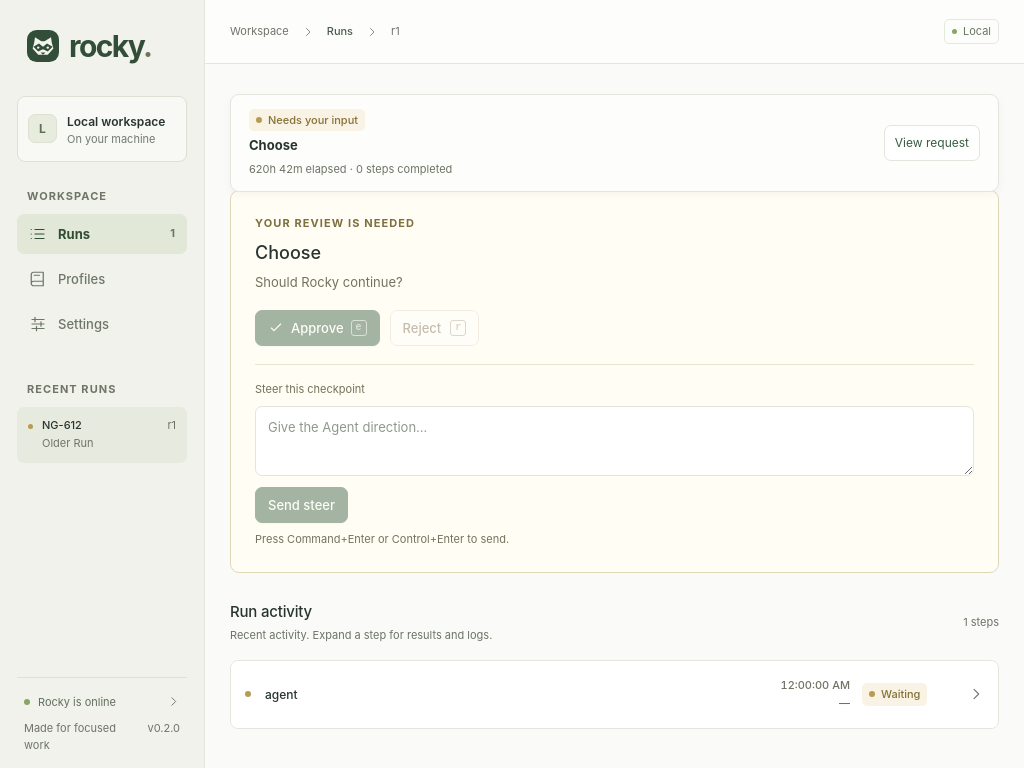
Test case: Inbox behavior › renders a recorded OpenCode tool event as readable activity instead of JSONL
(page scrolled)
Step 1. Click the button "agent 12:00:00 AM — Waiting" → (281, 695), box [231,661,998,728]
(page scrolled)
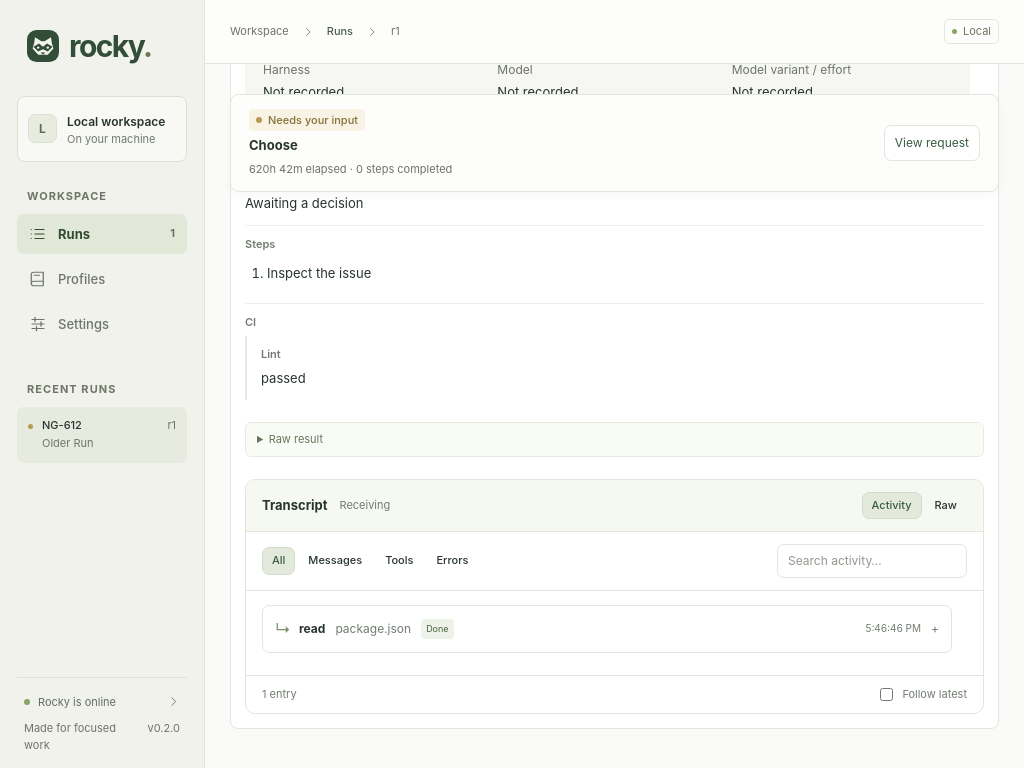
Expected: the text "read" is shown, [299,620,325,638]
Expected: the text "package.json" is shown, [335,620,411,638]
Expected: the button "Raw" is shown, [924,492,967,519]
